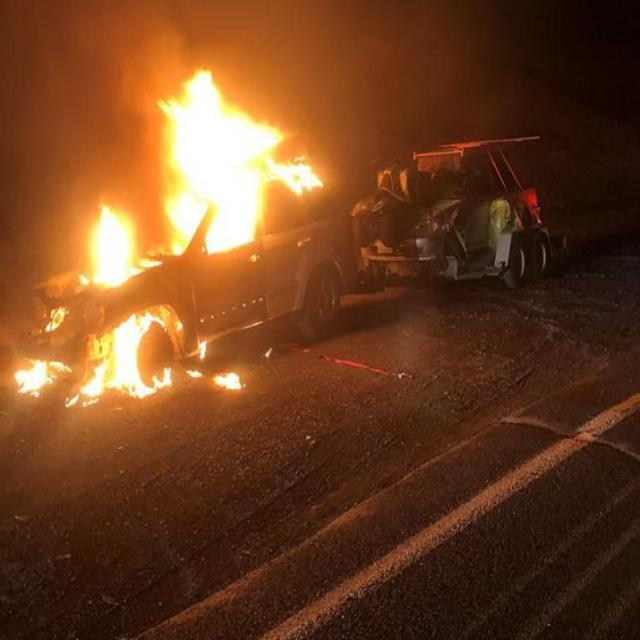fire: (11, 54, 342, 401)
